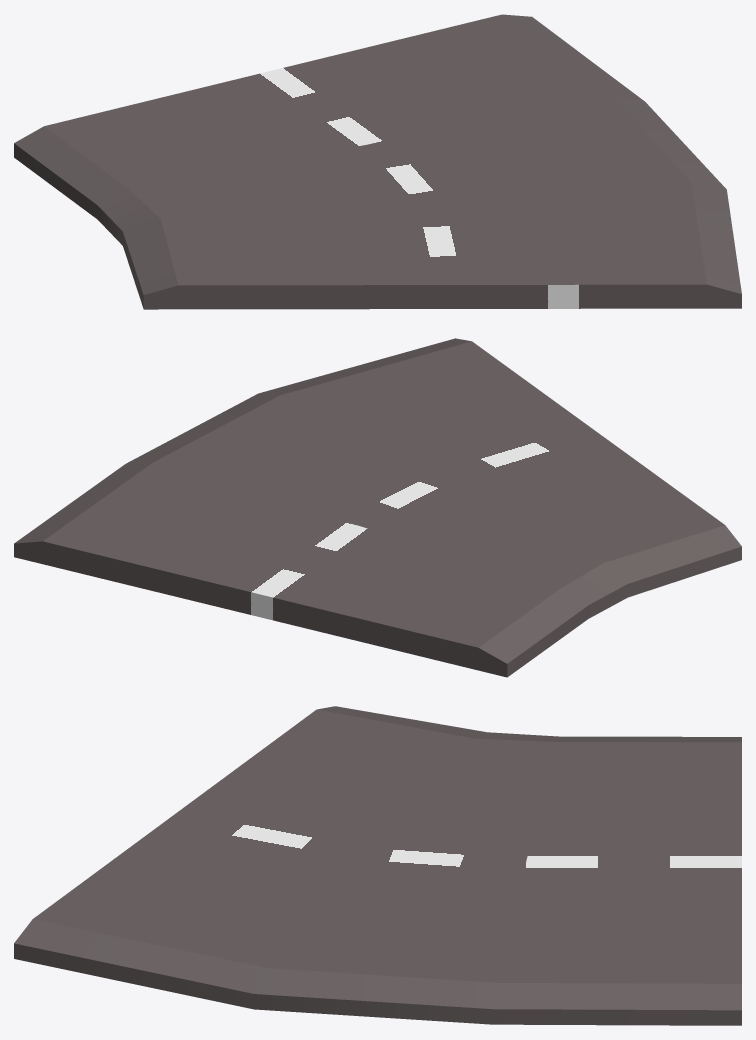
File: Road_Double_Slight_Turn.fbx
3 renders of one model, top to bottom at view 1: azimuth 30°, elevation 25°; view 2: azimuth 150°, elevation 25°; view 3: azimuth 270°, elevation 25°, orthographic. The views are drawn at different scales.
Visible parts, largest first — view 1: Road_Double_Slight_Turn; view 2: Road_Double_Slight_Turn; view 3: Road_Double_Slight_Turn.
Part boxes in pixels (x1,y1,x2,y2): Road_Double_Slight_Turn: (14,14,741,309); Road_Double_Slight_Turn: (14,338,741,677); Road_Double_Slight_Turn: (14,706,741,1025).
Bounding box in the file's own units: 31.78 × 1.26 × 32.15.
1 material, 1 textured.
